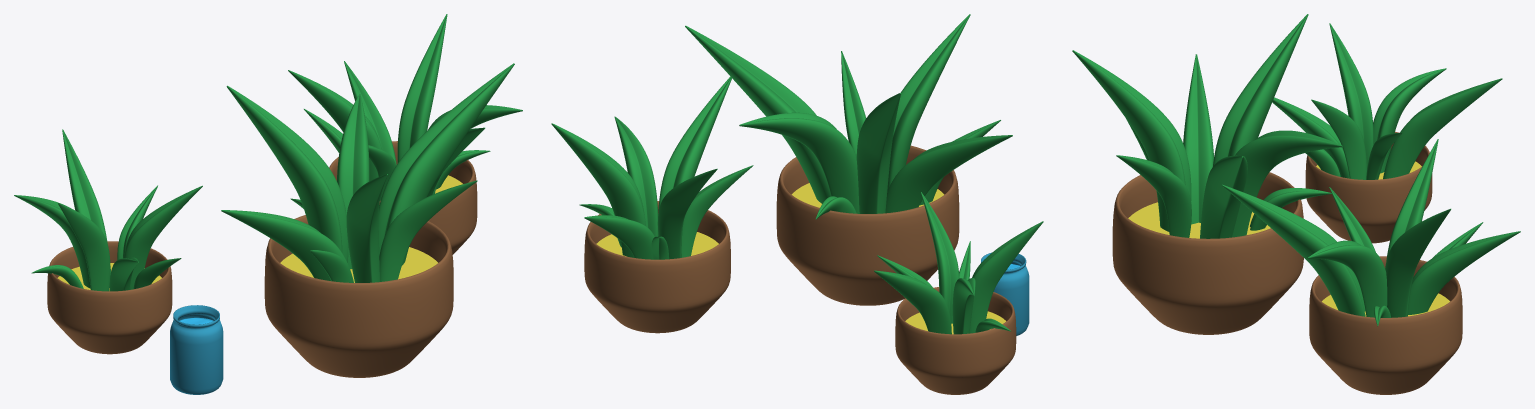
Rendered from plantacolor.glb.
3 renders of one model, left to right at view 1: azimuth 30°, elevation 25°; view 2: azimuth 150°, elevation 25°; view 3: azimuth 270°, elevation 25°, orthographic. The views are drawn at different scales.
Visible parts, largest first — view 1: Vert, Vert.004, NurbsPath.003, NurbsPath.001, Circle.003, NurbsPath.005, NurbsPath, NurbsPath.009, NurbsPath.004, NurbsPath.002, Vert.002, NurbsPath.017 (+16 smaller); view 2: Vert, Vert.002, Vert.004, NurbsPath.003, NurbsPath.002, NurbsPath, NurbsPath.001, NurbsPath.005, NurbsPath.009, NurbsPath.011, NurbsPath.017, NurbsPath.013 (+12 smaller); view 3: Vert, Vert.002, Vert.004, NurbsPath.005, NurbsPath.011, NurbsPath.001, NurbsPath.002, NurbsPath.019, NurbsPath, NurbsPath.003, NurbsPath.009, NurbsPath.008 (+12 smaller).
Part boxes in pixels (box(x1,y1,x2,y2)): Vert: box(264, 215, 453, 377); Vert.004: box(47, 241, 172, 354); NurbsPath.003: box(378, 63, 514, 265); NurbsPath.001: box(226, 85, 348, 262); Circle.003: box(170, 305, 223, 394); NurbsPath.005: box(346, 174, 387, 282); NurbsPath: box(221, 210, 353, 282); NurbsPath.009: box(397, 14, 447, 162); NurbsPath.004: box(379, 180, 477, 281); NurbsPath.002: box(337, 94, 369, 269); Vert.002: box(329, 141, 477, 254); NurbsPath.017: box(57, 203, 110, 291); Vert: box(776, 145, 959, 305); Vert.002: box(584, 201, 730, 333); Vert.004: box(895, 287, 1016, 394); NurbsPath.003: box(685, 25, 831, 203); NurbsPath.002: box(739, 112, 859, 213); NurbsPath: box(885, 135, 1012, 213); NurbsPath.001: box(856, 93, 901, 213); NurbsPath.005: box(887, 14, 970, 190); NurbsPath.009: box(551, 123, 645, 257); NurbsPath.011: box(658, 76, 731, 236); NurbsPath.017: box(969, 221, 1043, 333); NurbsPath.013: box(657, 168, 717, 259); Vert: box(1112, 172, 1303, 334); Vert.002: box(1309, 256, 1462, 394); Vert.004: box(1305, 131, 1432, 243); NurbsPath.005: box(1072, 50, 1191, 231); NurbsPath.011: box(1222, 184, 1365, 316); NurbsPath.001: box(1213, 14, 1308, 166); NurbsPath.002: box(1232, 130, 1342, 237); NurbsPath.019: box(1383, 78, 1502, 179); NurbsPath: box(1183, 54, 1213, 224); NurbsPath.003: box(1200, 155, 1247, 238); NurbsPath.009: box(1385, 208, 1451, 317); NurbsPath.008: box(1408, 231, 1520, 314).
Size of the model in its own units: 5.89 by 3.16 by 4.95.
